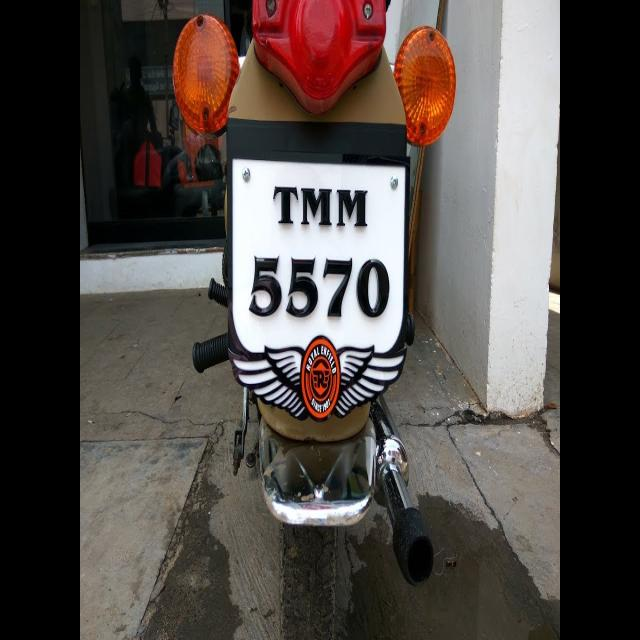number plate: (224, 124, 413, 442)
